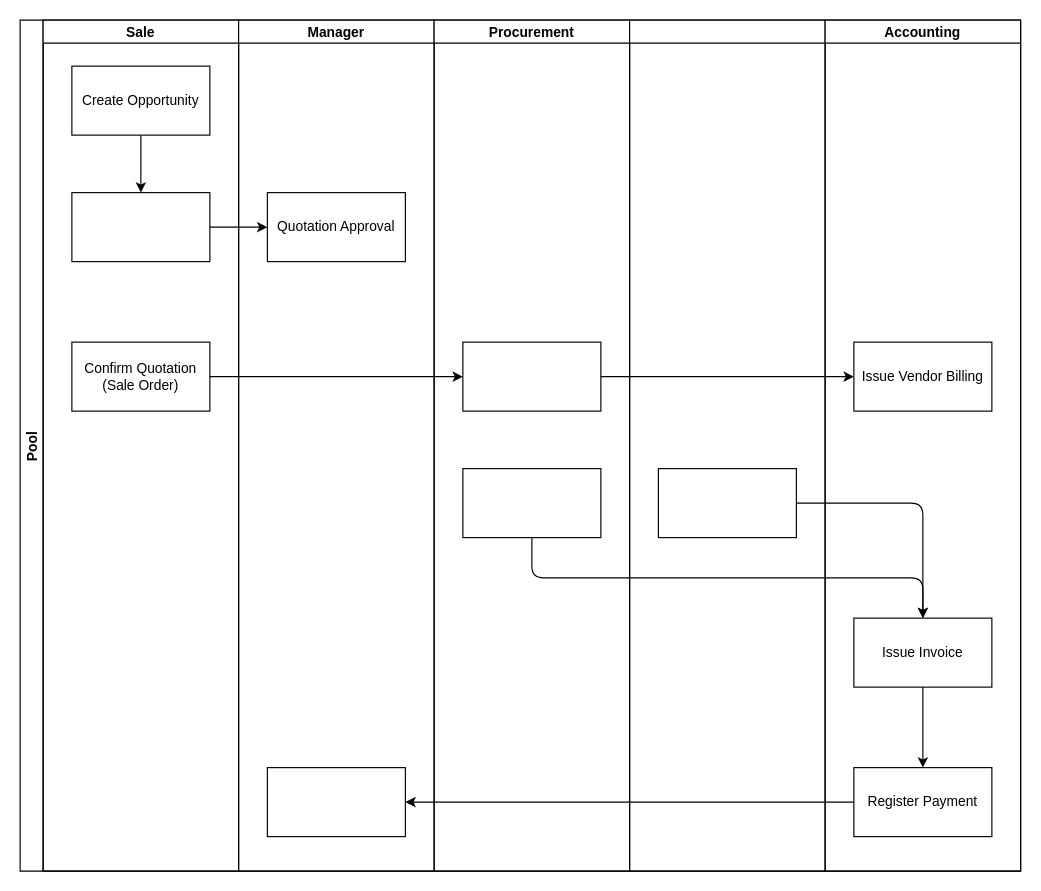
Image size: 1041x891. Some labels were removed from this diagram. Here are the shapes that lost their labels. From the top down, the box of each, then its label:
(71, 191, 210, 262): Create Quotation with Cost Sheet
(462, 341, 601, 411): Create Purchase Order
(628, 19, 825, 871): Engineer
(462, 467, 601, 538): Manage Delivery
(657, 467, 796, 538): Manage Project
(266, 766, 405, 837): Reporting and Monitoring
